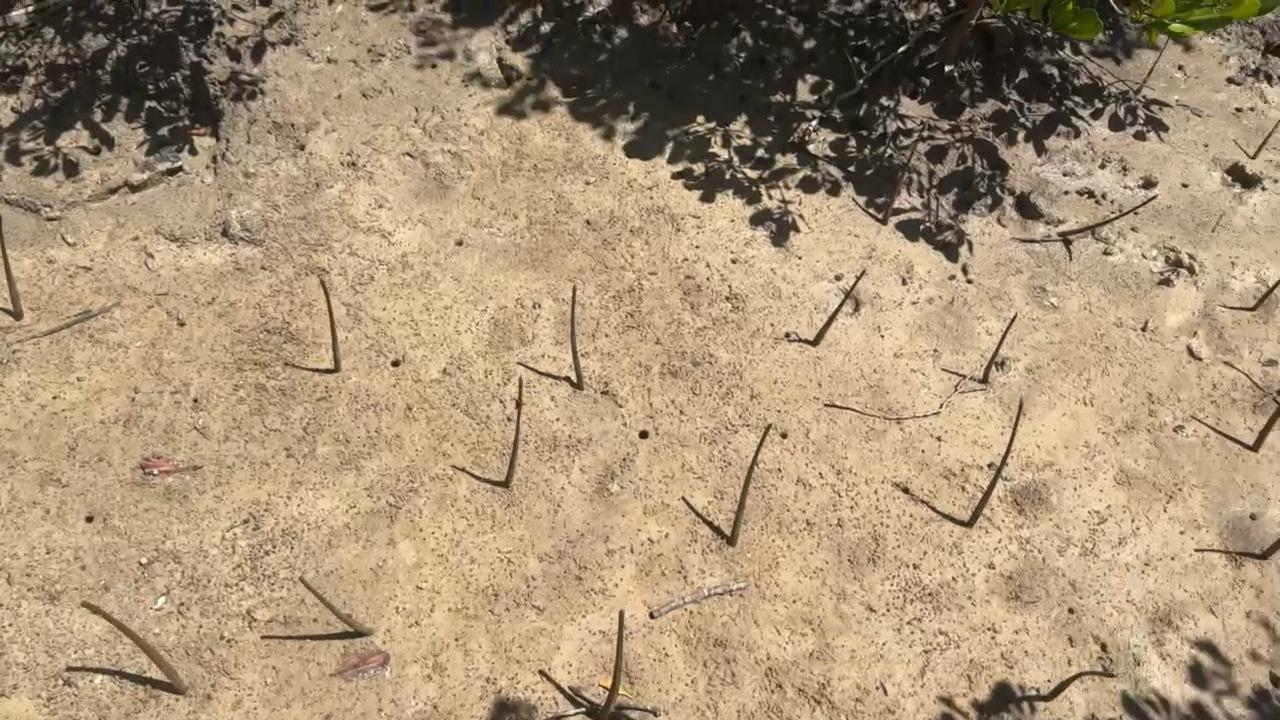Tree: (79, 600, 189, 695), (965, 397, 1024, 529), (727, 422, 775, 547), (298, 573, 374, 637), (881, 121, 926, 226), (1057, 192, 1161, 236), (811, 269, 867, 348), (593, 609, 626, 720), (982, 313, 1019, 384), (0, 212, 24, 321), (318, 276, 343, 374), (1133, 35, 1173, 95), (503, 375, 524, 488), (569, 283, 585, 391), (1251, 404, 1280, 453), (1250, 120, 1280, 160), (1251, 278, 1280, 312), (1261, 538, 1280, 560), (1079, 670, 1116, 680)
